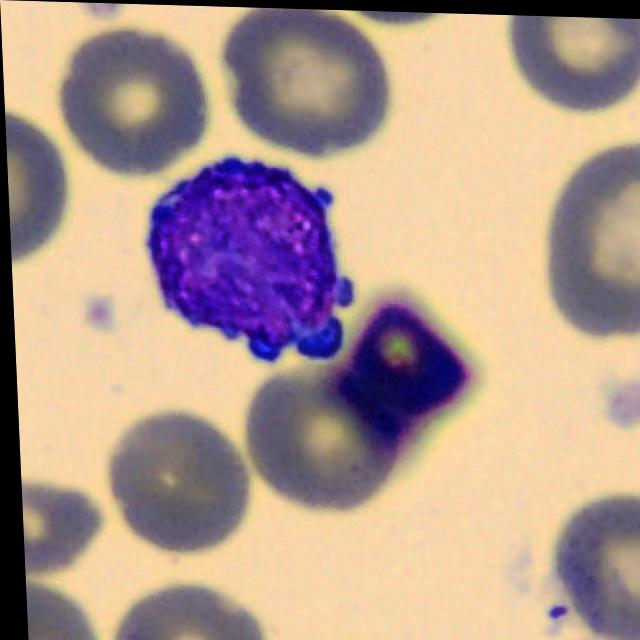Linfocito: (144, 154, 349, 359)
